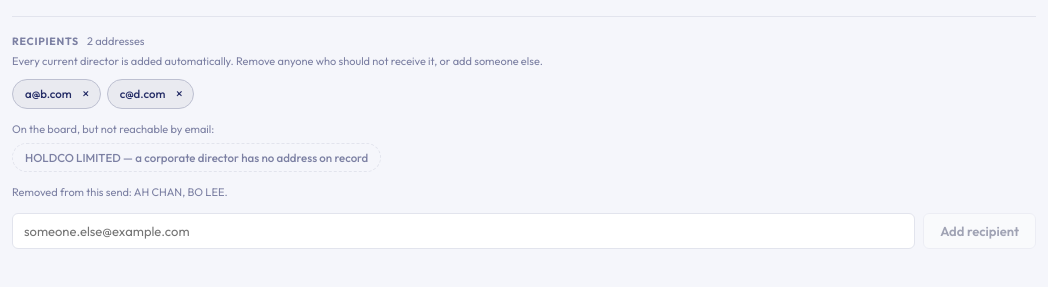
Test case: RecipientPicker › stops at the recipient ceiling
Type "e@f.com" into the field named "Add a recipient" at (464, 231), box [12, 213, 915, 249]
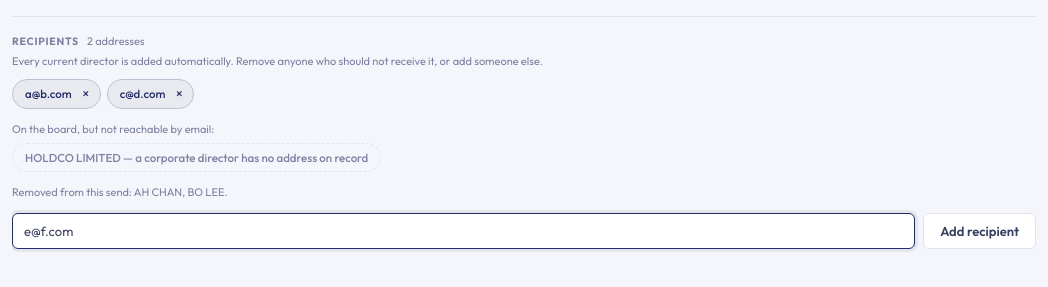
Click the button "Add recipient" at (980, 231), box [923, 213, 1036, 249]
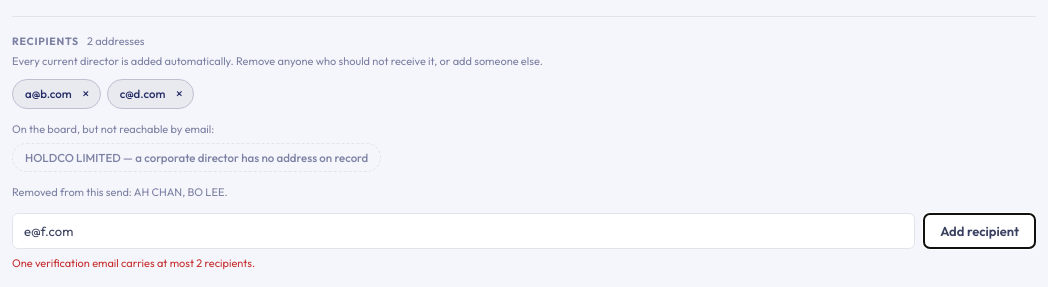
Now the text "One verification email carries at most 2 recipients." is shown, box [12, 256, 255, 270]
